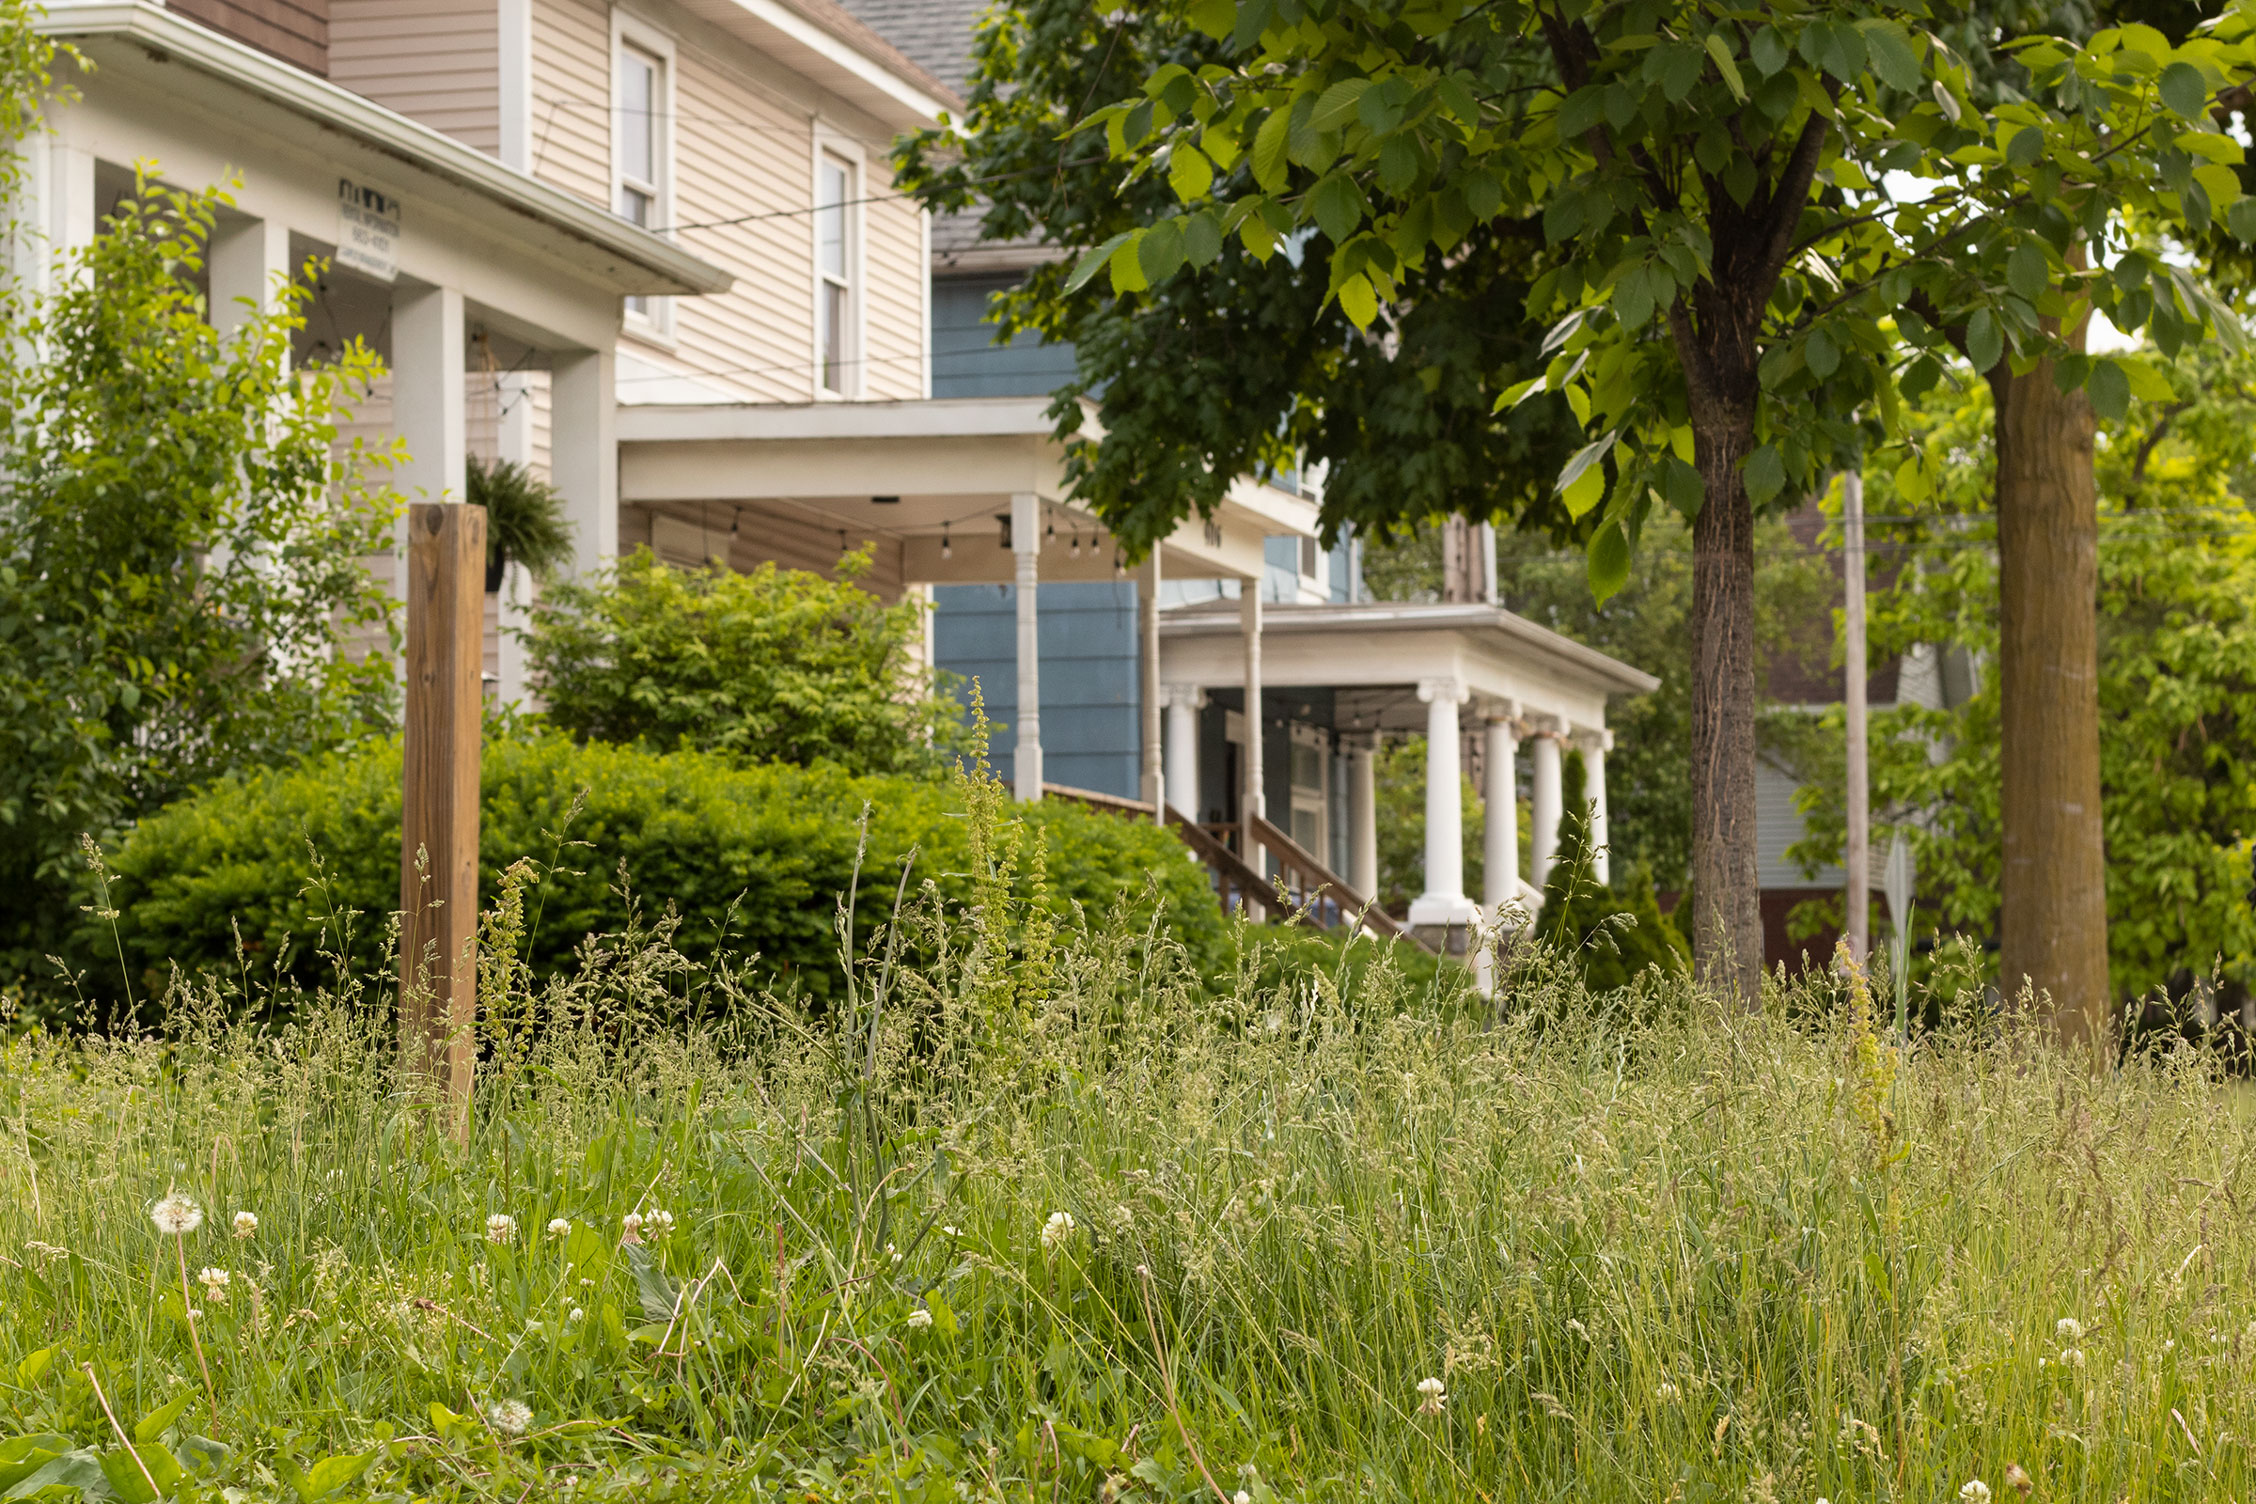grass: (7, 1111, 2256, 1504)
